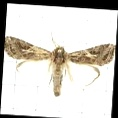Spodoptera litura: (4, 26, 115, 98)
